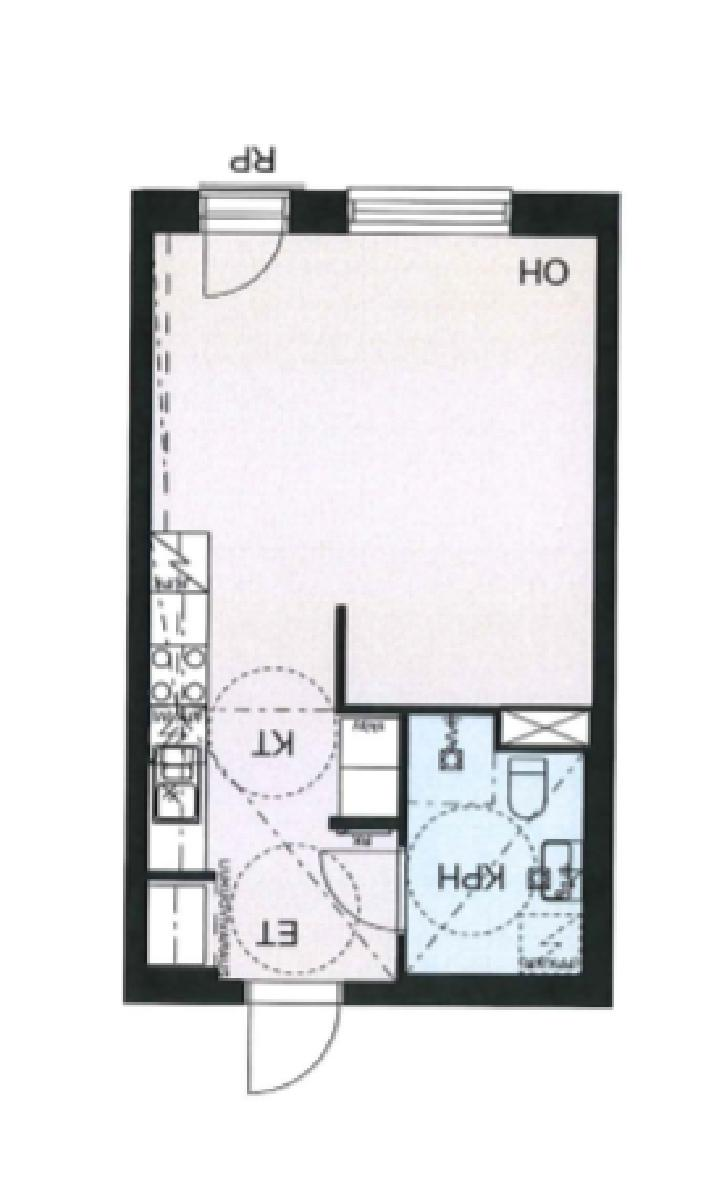door: (247, 969, 348, 1123), (312, 839, 405, 948), (192, 210, 283, 297)
window: (343, 184, 504, 228), (203, 188, 289, 228)
zone: (152, 233, 590, 703), (134, 697, 397, 974), (404, 709, 579, 970)
